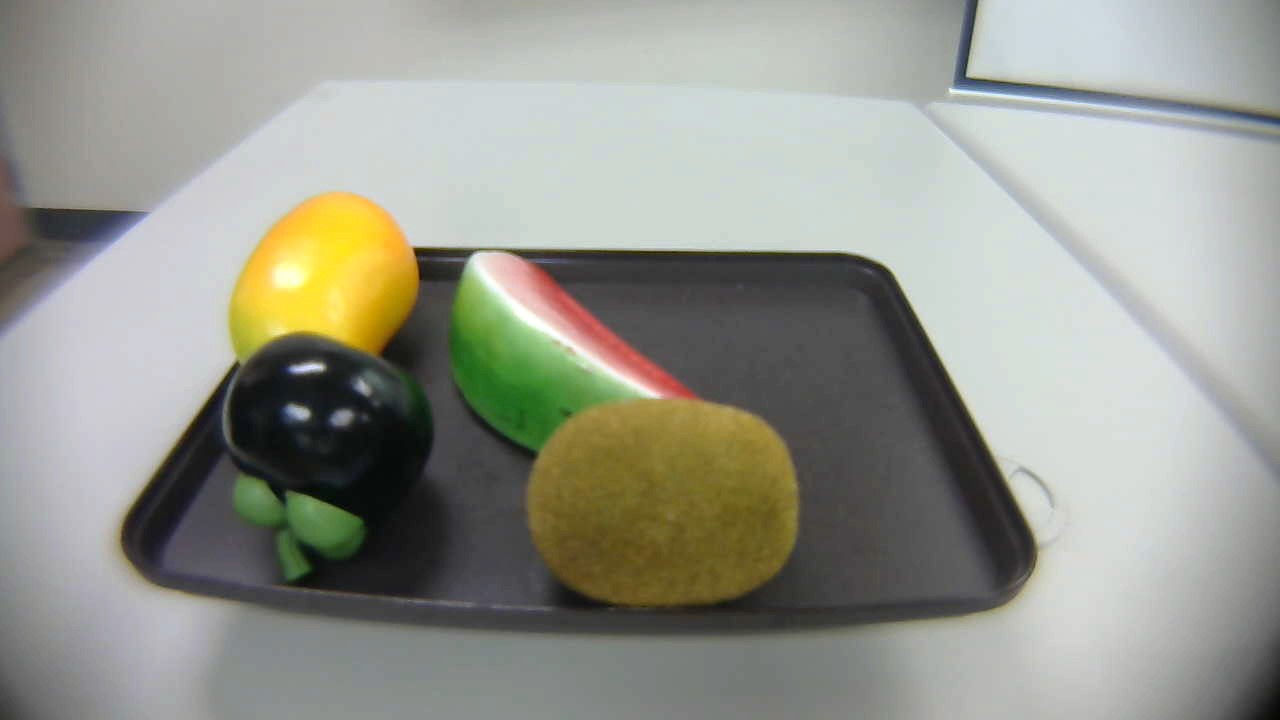kiwi fruit: (530, 391, 806, 609)
mangosteen: (209, 329, 445, 604)
water melon: (442, 233, 722, 471)
yellow mango: (220, 181, 430, 391)
